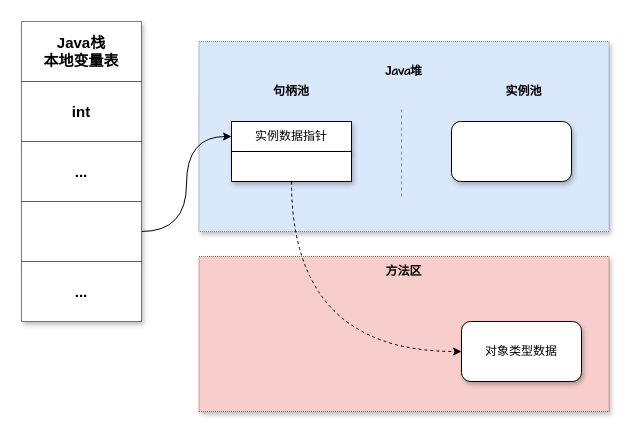
Some shapes in this 633 by 436 pixel diagram are drawn without their labels. The centre of each missing label's shape, as x and y in pixels:
reference: the point at 82,232
对象实例数据: the point at 512,152
对象类型数据指针: the point at 292,167
